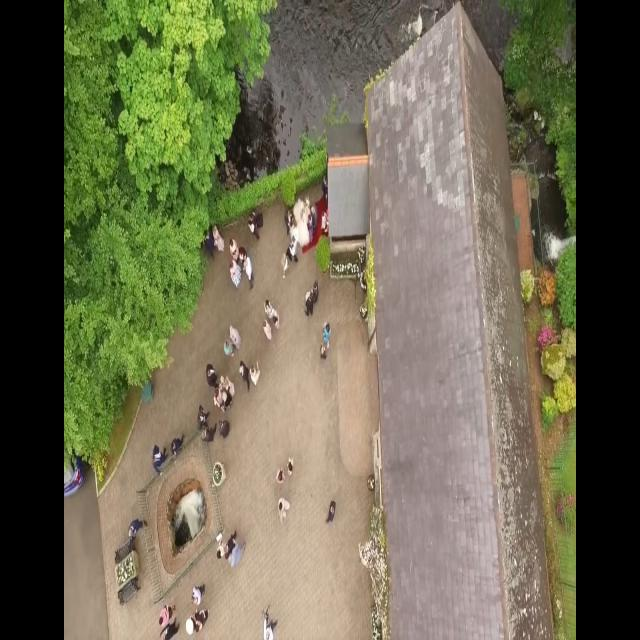humans: (193, 603, 218, 633), (124, 514, 147, 544), (227, 252, 242, 298), (151, 437, 168, 473), (237, 354, 253, 392), (321, 316, 335, 359), (226, 550, 250, 575), (277, 495, 293, 529), (216, 537, 232, 568), (194, 402, 212, 429), (157, 602, 178, 625), (251, 354, 264, 390), (168, 433, 186, 459), (217, 414, 232, 444), (324, 494, 338, 526), (242, 252, 254, 289), (200, 421, 216, 447), (304, 286, 316, 320), (222, 332, 236, 359), (206, 360, 219, 389), (288, 454, 300, 485), (280, 248, 290, 284), (276, 461, 286, 492), (263, 319, 273, 344), (264, 295, 274, 320), (228, 230, 238, 254), (314, 276, 322, 303), (236, 240, 246, 261)
